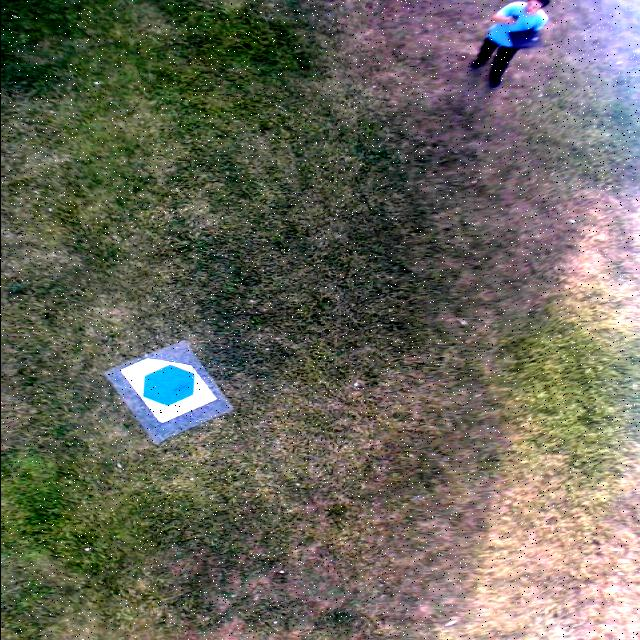blue_hexagon: (141, 364, 195, 406)
